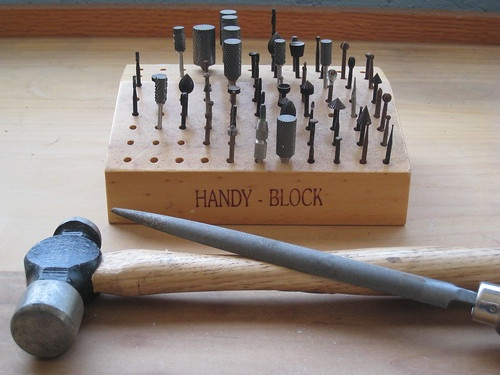hammer: (9, 214, 385, 358)
